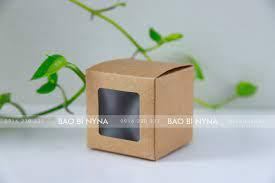box: (86, 58, 194, 162)
